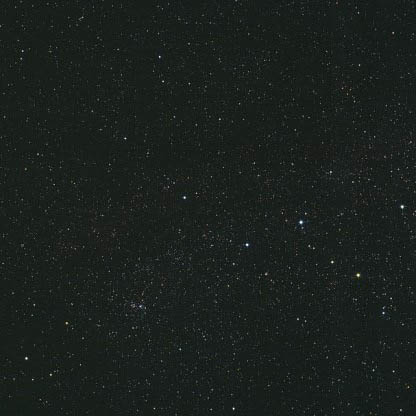Cassiopeia: (325, 249, 371, 287), (286, 210, 318, 241), (171, 184, 200, 215), (234, 226, 258, 256), (390, 194, 416, 216)
